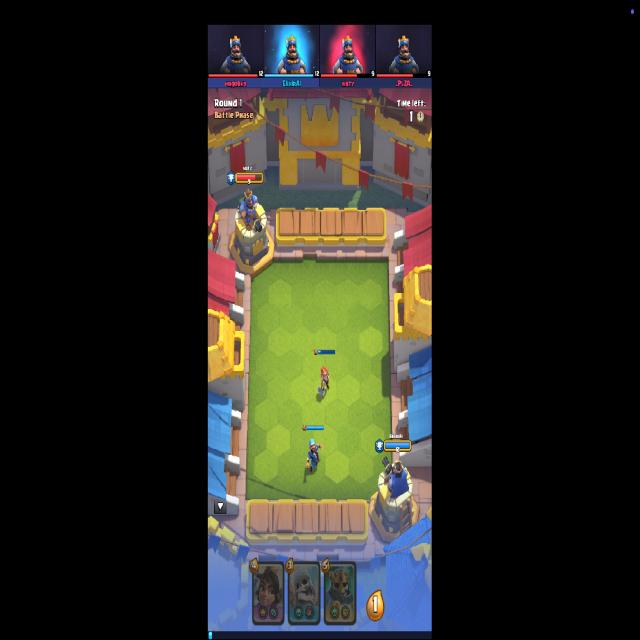card_giant_skeleton: (288, 560, 321, 626)
card_princess: (252, 562, 286, 626)
card_skeleton_king: (324, 561, 356, 626)
valkyrie: (318, 366, 330, 396)
wizard: (305, 433, 323, 474)
